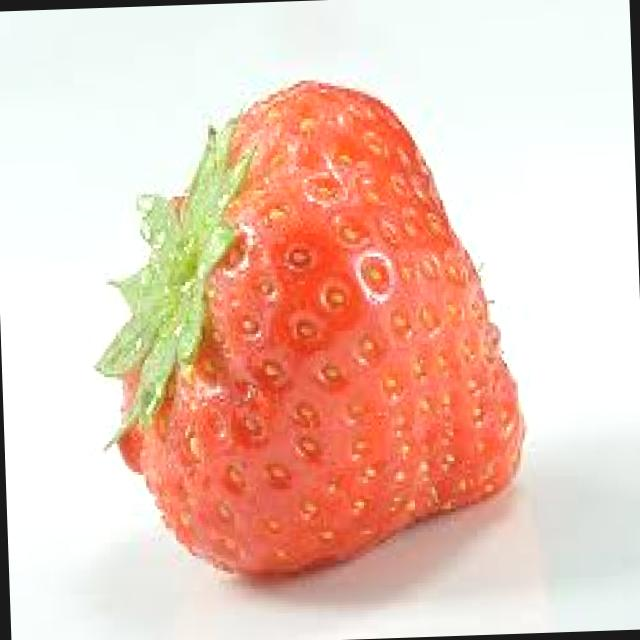strawberry: (98, 69, 543, 582)
